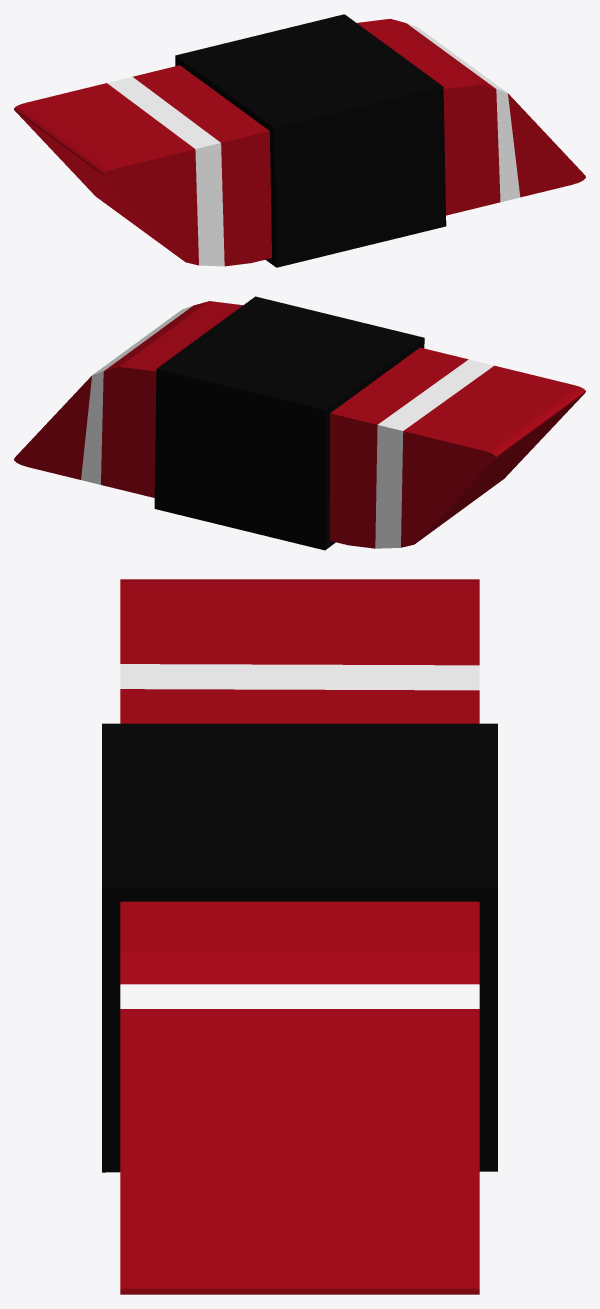
File: eraser.fbx
3 views of the same model, one above another, from view 1: azimuth 30°, elevation 25°; view 2: azimuth 150°, elevation 25°; view 3: azimuth 270°, elevation 25° (orthographic). The views are drawn at different scales.
Parts seen in each view (by area): view 1: Cube; view 2: Cube; view 3: Cube.
Part boxes in pixels (<box>): Cube: <box>14,14,585,267</box>; Cube: <box>14,296,585,550</box>; Cube: <box>102,579,497,1294</box>.
Size of the model in its own units: 246 by 68.57 by 87.57.
